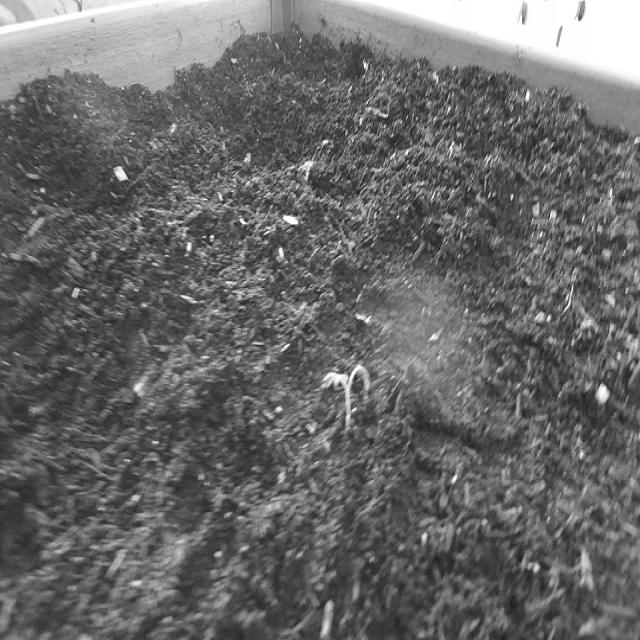Healthy: (317, 356, 378, 445)
